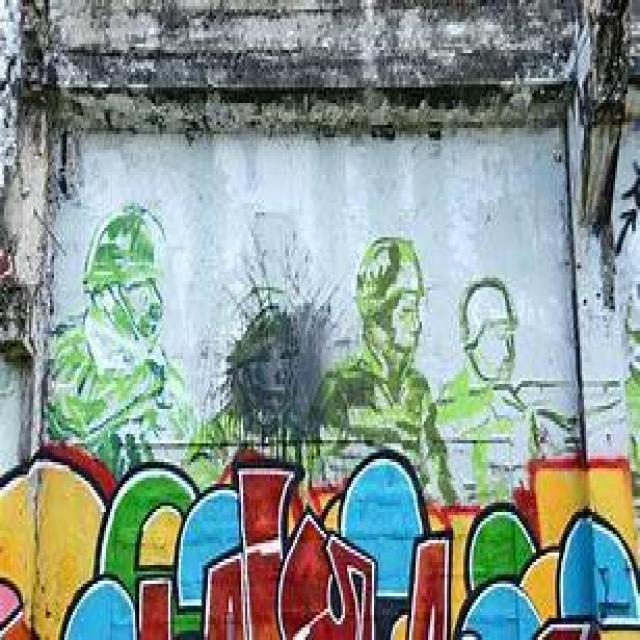nonspitting: (0, 443, 640, 640), (44, 200, 196, 450), (312, 237, 444, 445), (193, 281, 307, 449), (440, 265, 536, 448)
